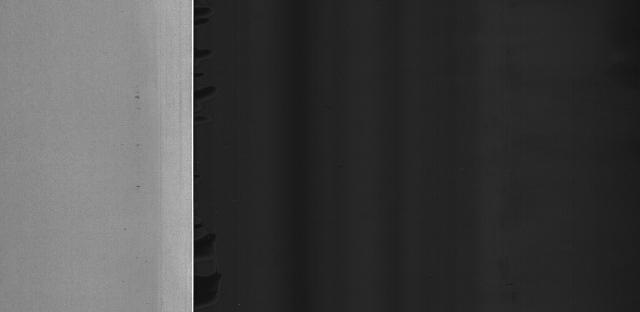inclusion: (131, 85, 143, 106), (132, 179, 147, 193), (133, 136, 145, 151)
